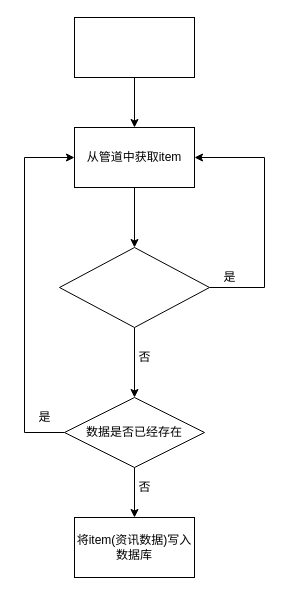
The diagram is 290 pixels wide and 595 high, and some of its shapes have lost their labels. The centre of each missing label's shape, as x and y in pixels:
"从项目配置文件中获取MongoDB有关配置" belongs at point 134,47.
"资讯数据内容是否为空" belongs at point 134,287.
